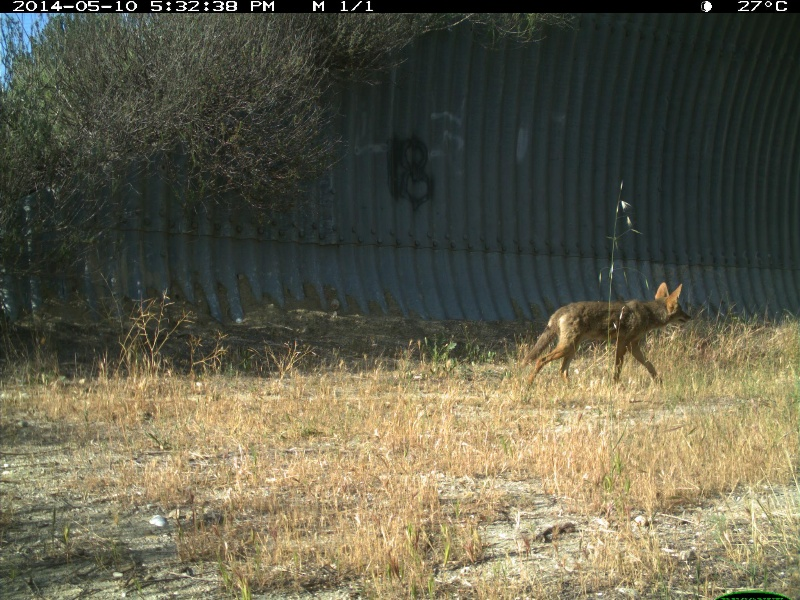coyote: (519, 280, 690, 396)
